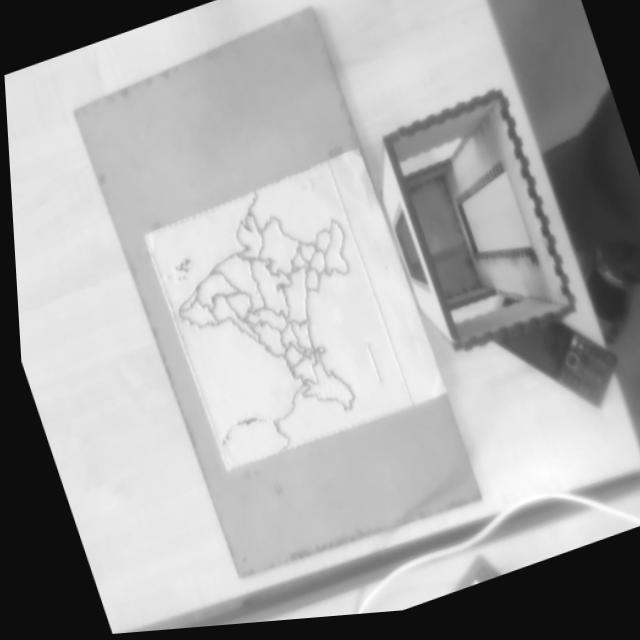map: (141, 161, 414, 469)
